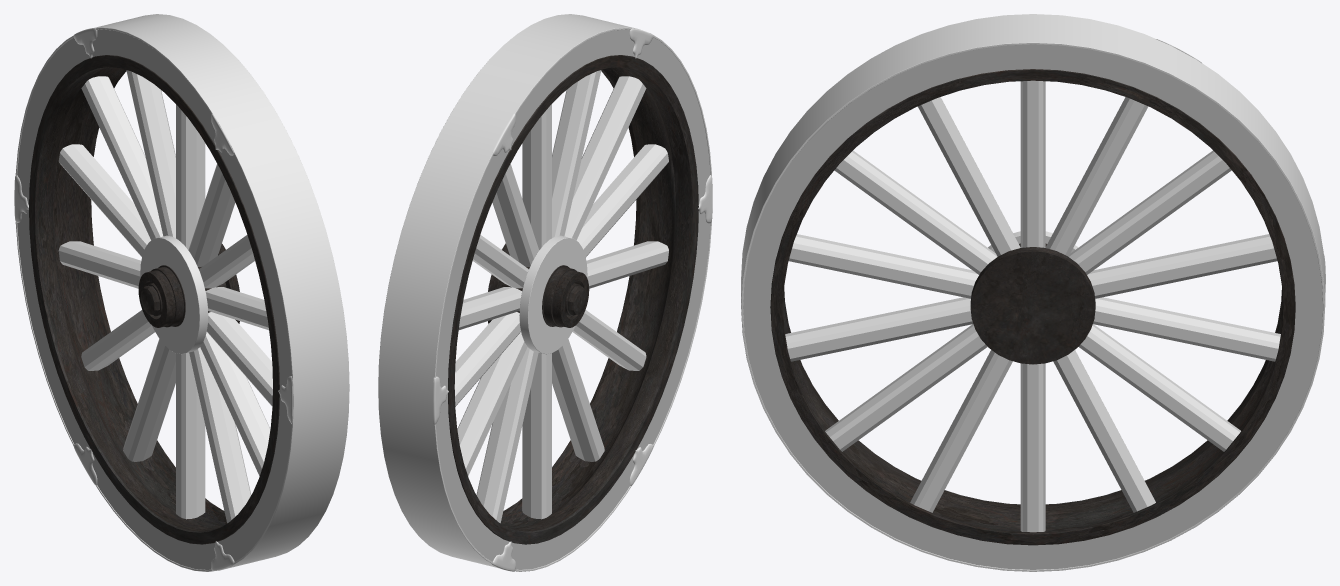
The model's file is RightWheel.fbx.
The picture shows the model from 3 angles, left to right: view 1: azimuth 30°, elevation 25°; view 2: azimuth 150°, elevation 25°; view 3: azimuth 270°, elevation 25°; orthographic projection. The views are drawn at different scales.
Parts seen in each view (by area): view 1: spokes, felloes tyre, felloes interior, felloes, hub flange front, felloes plates, hub bearing; view 2: spokes, felloes tyre, felloes interior, felloes, hub flange front, felloes plates, hub bearing; view 3: spokes, felloes, felloes interior, felloes tyre, hub flange back.
Boxes of the visible parts, x1=… form: spokes: x1=58, y1=70, x2=272, y2=523; felloes tyre: x1=15, y1=14, x2=349, y2=571; felloes interior: x1=29, y1=55, x2=279, y2=544; felloes: x1=17, y1=29, x2=291, y2=569; hub flange front: x1=140, y1=235, x2=208, y2=354; felloes plates: x1=14, y1=27, x2=292, y2=570; hub bearing: x1=138, y1=265, x2=185, y2=327; spokes: x1=454, y1=70, x2=668, y2=523; felloes tyre: x1=378, y1=14, x2=712, y2=571; felloes interior: x1=448, y1=55, x2=698, y2=544; felloes: x1=436, y1=29, x2=710, y2=569; hub flange front: x1=519, y1=235, x2=587, y2=354; felloes plates: x1=433, y1=28, x2=712, y2=571; hub bearing: x1=542, y1=265, x2=589, y2=327; spokes: x1=785, y1=80, x2=1280, y2=532; felloes: x1=743, y1=44, x2=1322, y2=569; felloes interior: x1=770, y1=69, x2=1295, y2=545; felloes tyre: x1=741, y1=14, x2=1325, y2=571; hub flange back: x1=970, y1=247, x2=1095, y2=364.
Size of the model in its own units: 18.79 by 140 by 140.
